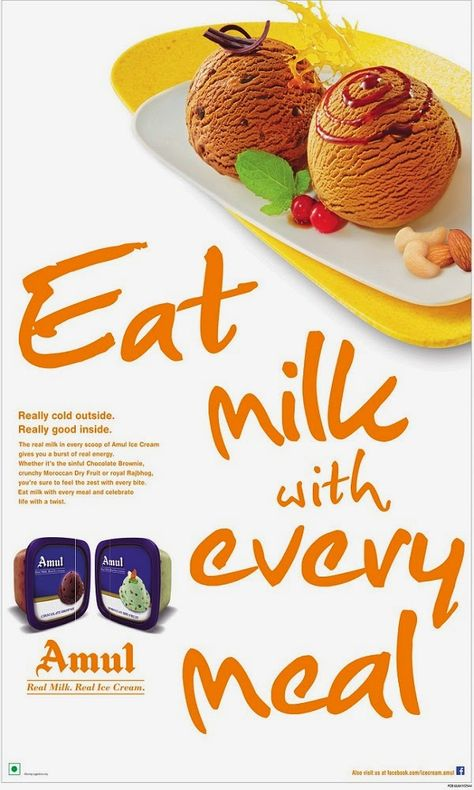Amul: (31, 636, 142, 678), (36, 552, 66, 569), (100, 553, 126, 569)
